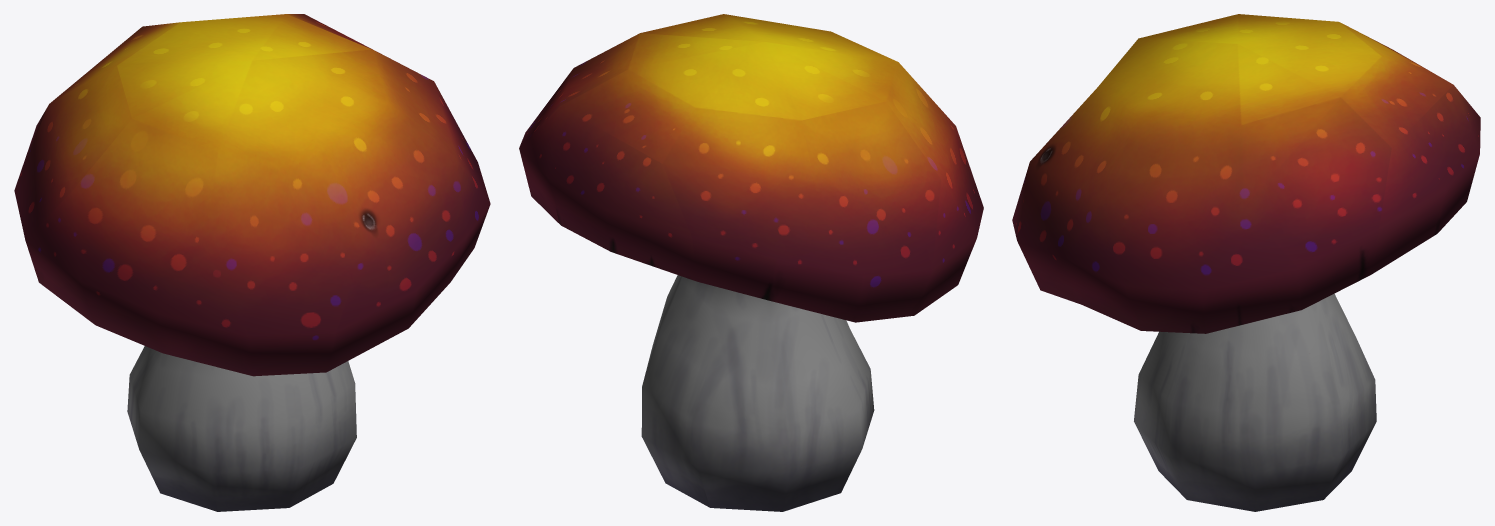
The model's file is Mushroom.fbx.
The picture shows the model from 3 angles, left to right: view 1: azimuth 30°, elevation 25°; view 2: azimuth 150°, elevation 25°; view 3: azimuth 270°, elevation 25°; orthographic projection. The views are drawn at different scales.
Parts seen in each view (by area): view 1: Cylinder; view 2: Cylinder; view 3: Cylinder.
Boxes of the visible parts, x1,y1,x2,y2 form: Cylinder: (14, 14, 490, 511); Cylinder: (519, 14, 983, 511); Cylinder: (1012, 14, 1480, 511).
Size of the model in its own units: 494 by 488 by 484.
